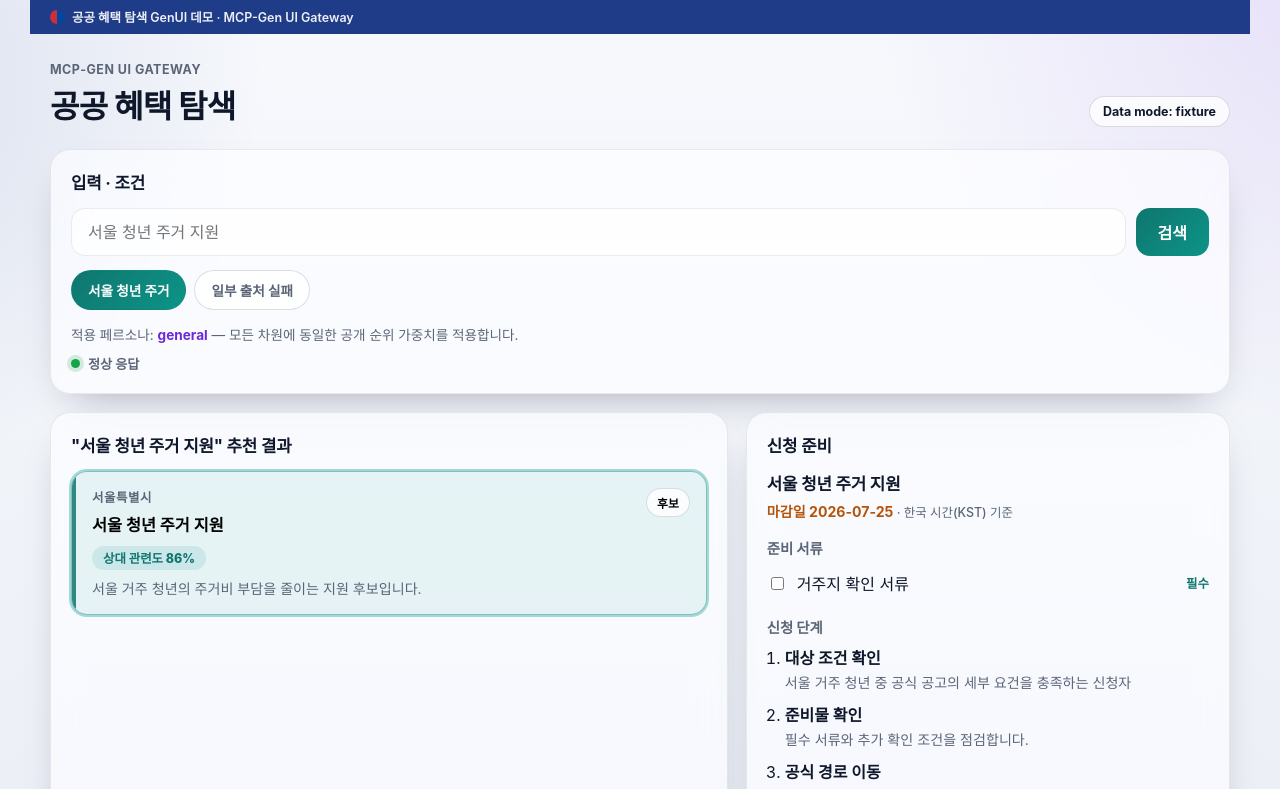
Scenario: App › reports partial source failure without pretending it is a fallback
Step 1. Click the button "일부 출처 실패" → (252, 290), box [194, 270, 310, 310]
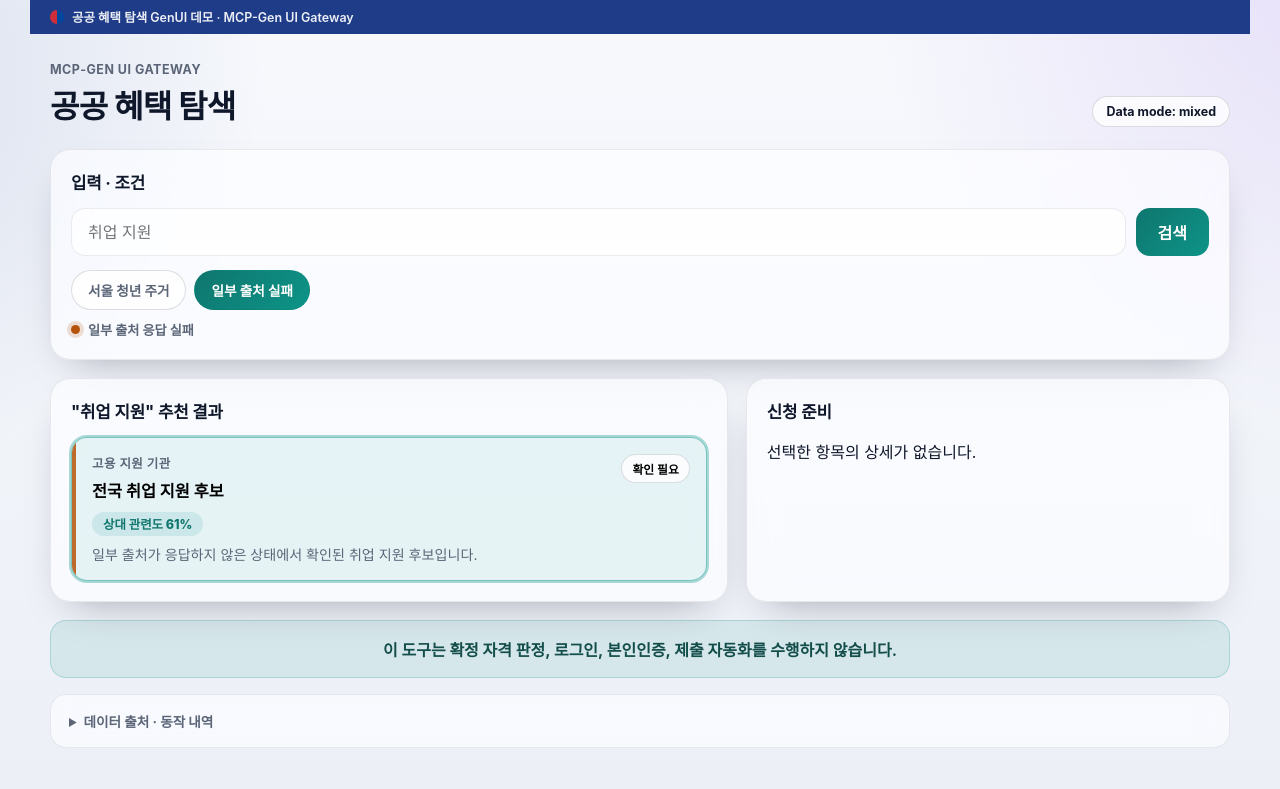
Check: the text "일부 출처 응답 실패" is shown, box [71, 322, 194, 338]
Check: the text "선택한 항목의 상세가 없습니다." is shown, box [767, 442, 976, 462]
